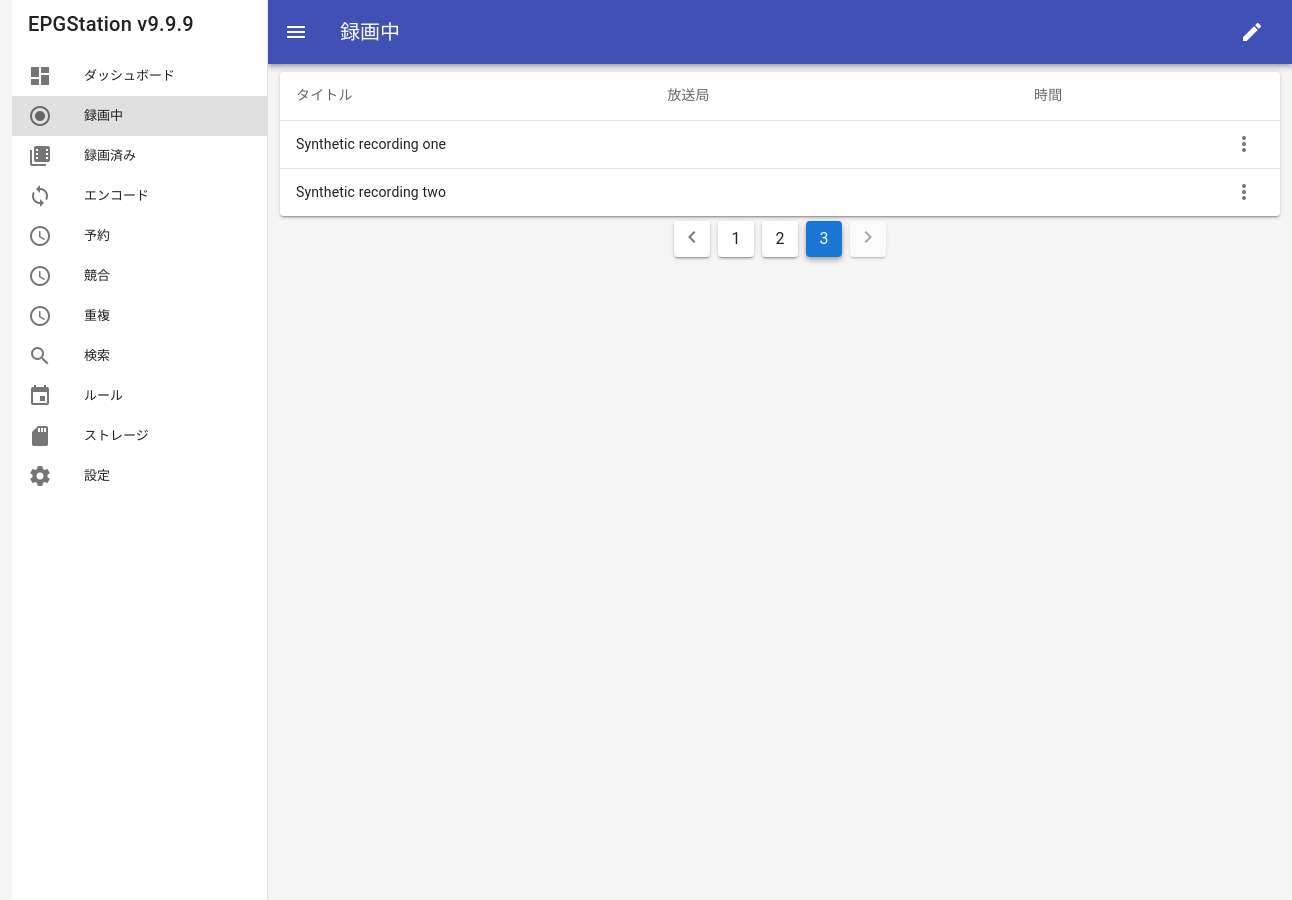
Test: Recording menu actions › [AC 1.23] unprotect action shows a failure snackbar when the API reports an error
Click the button named "録画メニュー: Synthetic recording two".
click(1244, 192)  # box [1224,172,1264,212]
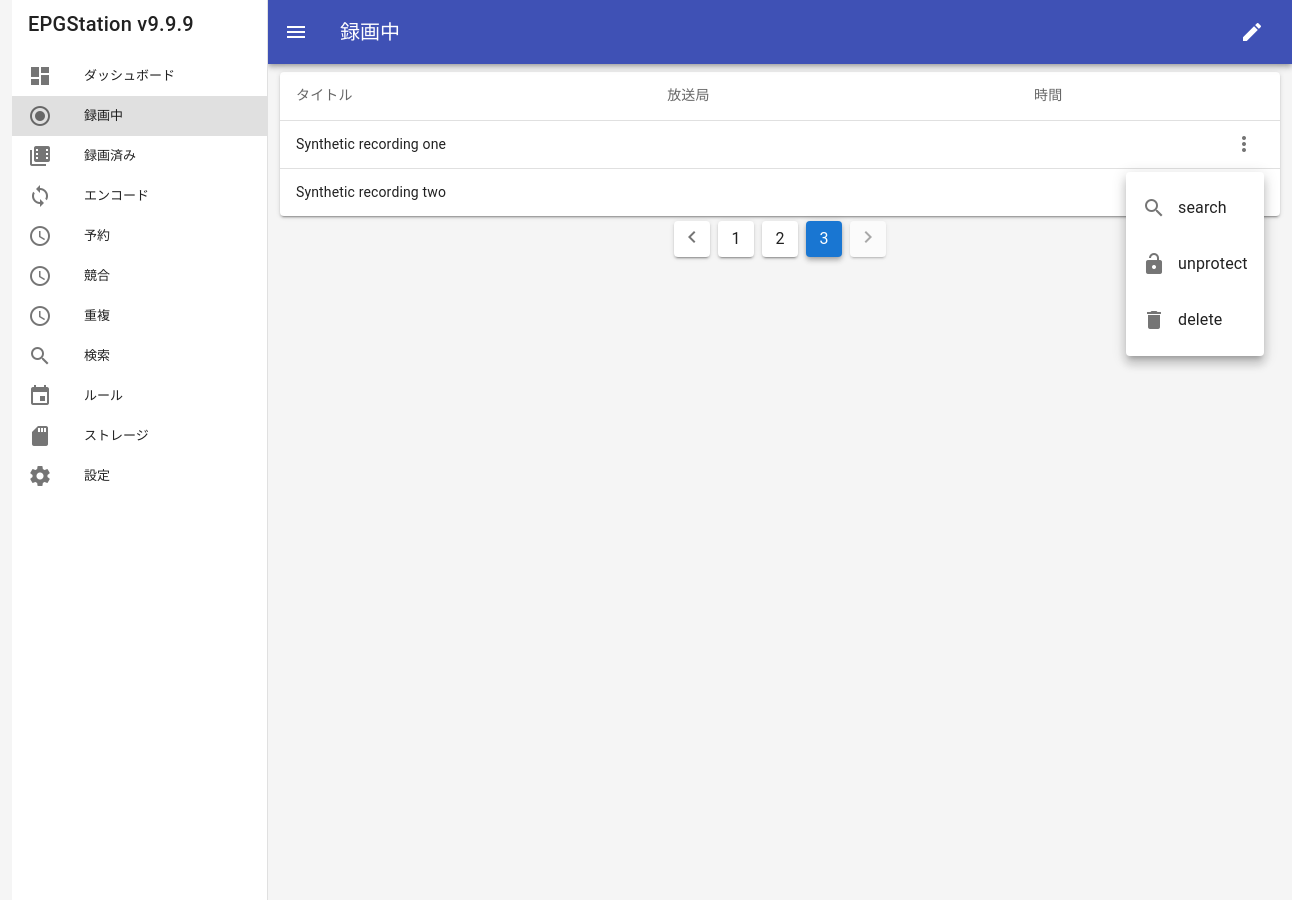
Click the menu item "unprotect".
click(1195, 264)  # box [1142,252,1248,276]
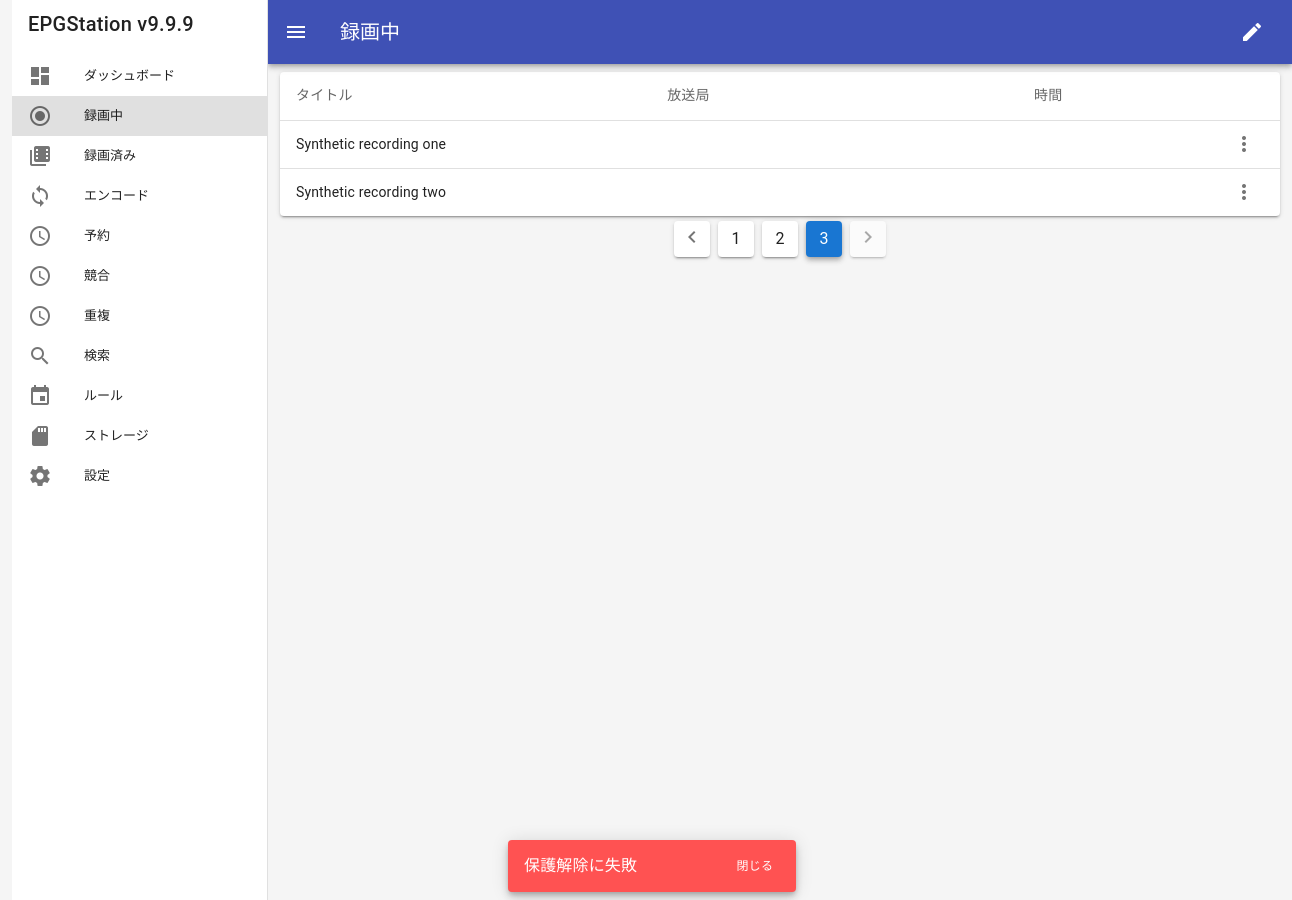
Expected: the text "保護解除に失敗" is shown, [524,856,637,875]
